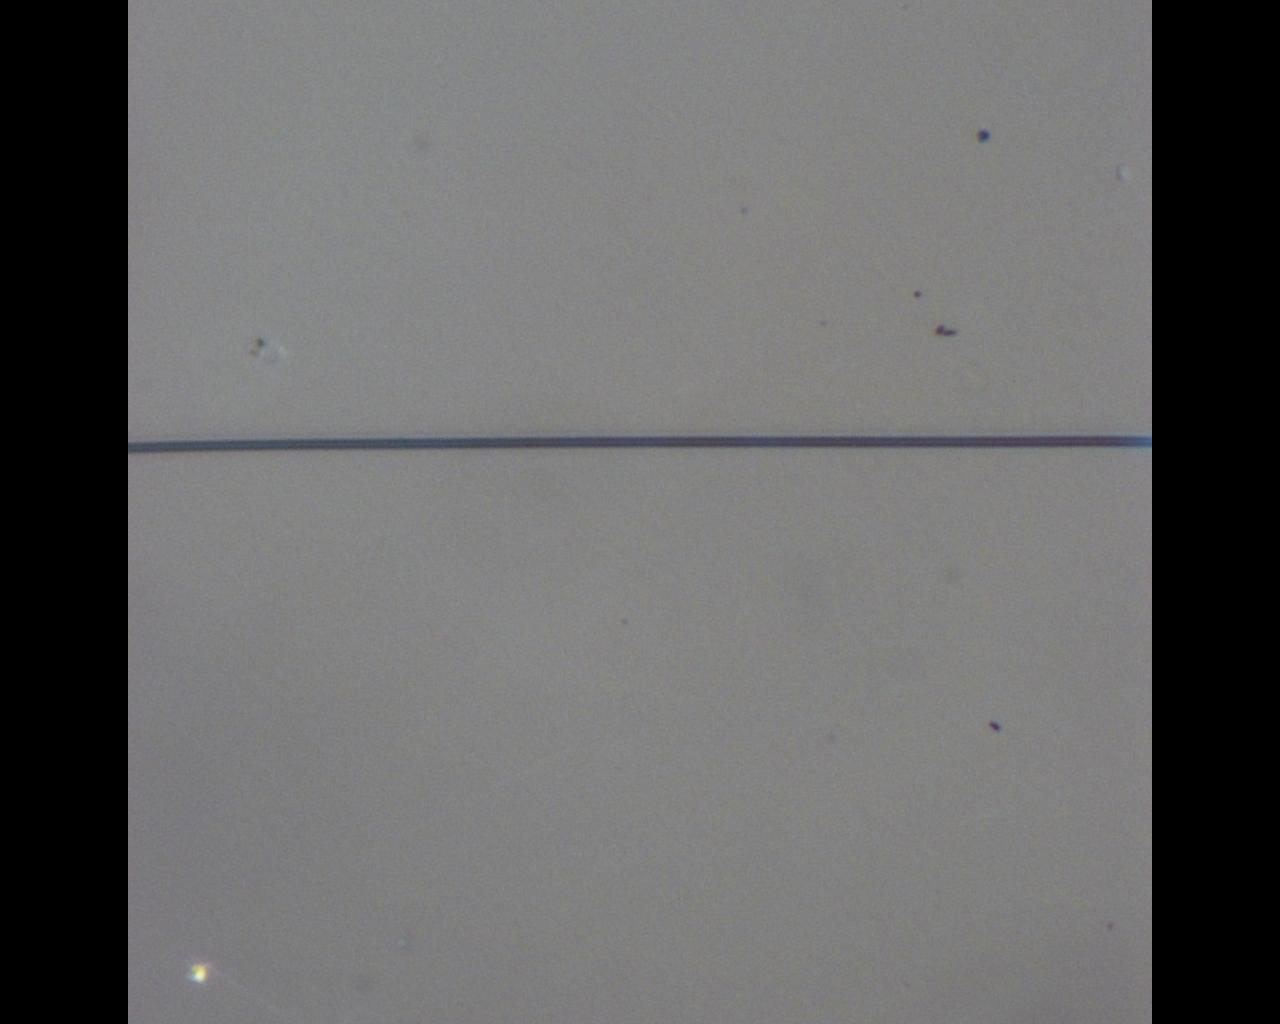fiber: (127, 435, 1151, 456)
